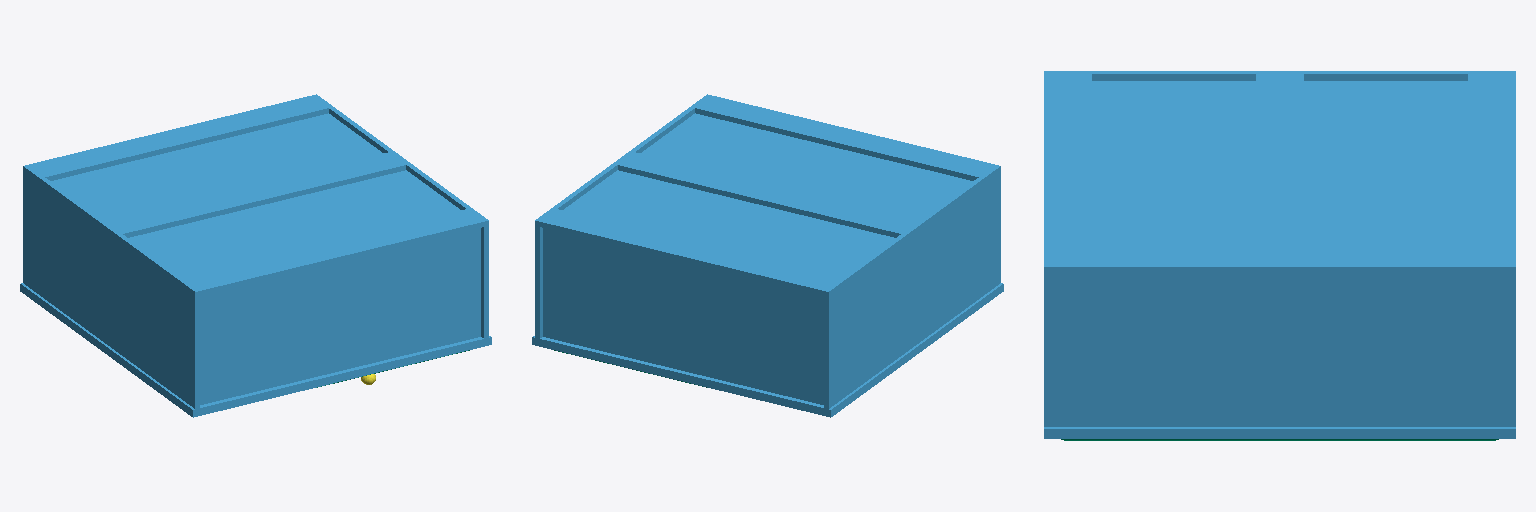
robot.urdf — right-pull-door:
<?xml version="1.0" ?>
<robot name="right-pull-door">
    <mujoco>
        <compiler meshdir="texture_stl" balanceinertia="true" discardvisual="false"/>
    </mujoco>
	<link name="base"/>
	<link name="link_0">
		<visual name="out-frame">
			<origin xyz="0 0 0"/>
			<geometry>
				<mesh filename="texture_stl/frame.stl" scale="0.8 0.8 0.8"/>
			</geometry>
		</visual>
		<collision>
			<origin xyz="0 0 0"/>
			<geometry>
				<mesh filename="texture_stl/frame.stl" scale="0.8 0.8 0.8"/>
			</geometry>
		</collision>
	</link>
	<joint name="joint_0" type="fixed">
		<origin rpy="1.570796326794897 0 -1.570796326794897" xyz="0 0 0"/>
		<child link="link_0"/>
		<parent link="base"/>
	</joint>
	<link name="link_1">
		<visual name="surf-board">
			<origin xyz="1.0022579669952394 -0.23679975237374706 0"/>
			<geometry>
				<mesh filename="texture_stl/board.stl" scale="0.8 0.8 0.8"/>
			</geometry>
		</visual>
		<collision>
			<origin xyz="1.0022579669952394 -0.23679975237374706 0"/>
			<geometry>
				<mesh filename="texture_stl/board.stl" scale="0.8 0.8 0.8"/>
			</geometry>
		</collision>
	</link>
	<joint name="joint_1" type="revolute">
		<origin xyz="-1.0022579669952394 0.23679975237374706 0"/>
		<axis xyz="0 -1 0"/>
		<child link="link_1"/>
		<parent link="link_0"/>
		<limit lower="0" upper="1.5079644737231006"/>
	</joint>
	<link name="link_2">
		<visual name="handle">
			<origin xyz="0 0 0"/>
			<geometry>
				<mesh filename="texture_stl/9962009.stl" scale="0.9663451678902796 0.9663451678902796 0.9663451678902796"/>
			</geometry>
		</visual>
		<collision>
			<origin xyz="0 0 0"/>
			<geometry>
				<mesh filename="texture_stl/9962009.stl" scale="0.9663451678902796 0.9663451678902796 0.9663451678902796"/>
			</geometry>
		</collision>
	</link>
	<joint name="joint_2" type="revolute">
		<origin xyz="1.0022579669952394 -0.23679975237374706 0.013909458598900427"/>
		<child link="link_2"/>
		<parent link="link_1"/>
		<axis xyz="0 0 1"/>
		<limit lower="0" upper="1.5079644737231006"/>
	</joint>
</robot>

--- Facts derived from the render (not from the file) ---
3 views of the same robot in one strip: view 1: azimuth 30°, elevation 25°; view 2: azimuth 150°, elevation 25°; view 3: azimuth 270°, elevation 25° (orthographic).
Model right-pull-door with 4 links and 3 joints (2 revolute, 1 fixed), rooted at base, posed all joints at 0.
Visible links, largest first — view 1: link_0; view 2: link_0; view 3: link_0, link_1.
Boxes of the visible links, x1,y1,x2,y2 form: link_0: (20,94,491,417); link_0: (532,94,1003,417); link_0: (1044,71,1515,438); link_1: (1061,439,1498,440).
Size in the robot's own frame: 1.12 by 1.12 by 0.5283 metres.
3 mesh visuals loaded from 3 distinct referenced files (3 binary STL).